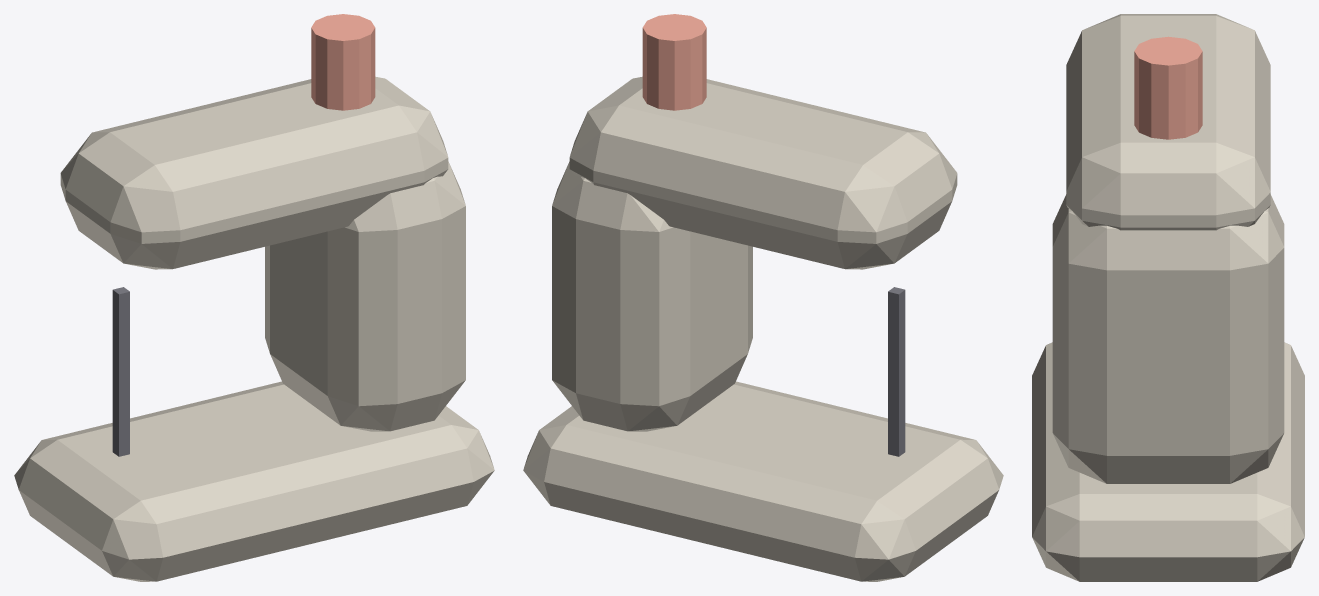
The model's file is cozy-home-interiors-sewing-machine-5c73e338.glb.
3 views of the same model, side by side, from view 1: azimuth 30°, elevation 25°; view 2: azimuth 150°, elevation 25°; view 3: azimuth 270°, elevation 25° (orthographic). The views are drawn at different scales.
Parts seen in each view (by area): view 1: sewing-machine; view 2: sewing-machine; view 3: sewing-machine.
Boxes of the visible parts, x1=… form: sewing-machine: x1=14, y1=14, x2=494, y2=581; sewing-machine: x1=523, y1=14, x2=1003, y2=581; sewing-machine: x1=1032, y1=14, x2=1304, y2=581.
Bounding box in the file's own units: 0.35 × 0.4 × 0.2.
